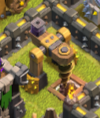dark_elixir_colector: (20, 17, 82, 100)
